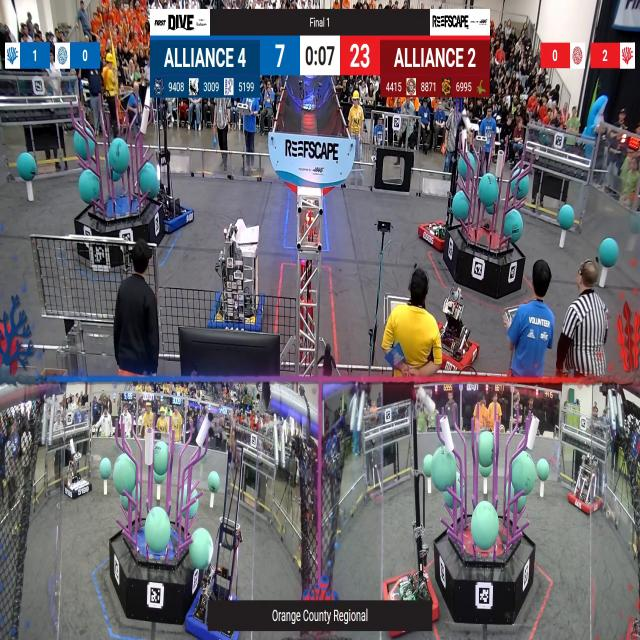scoreboard: (150, 35, 489, 96)
